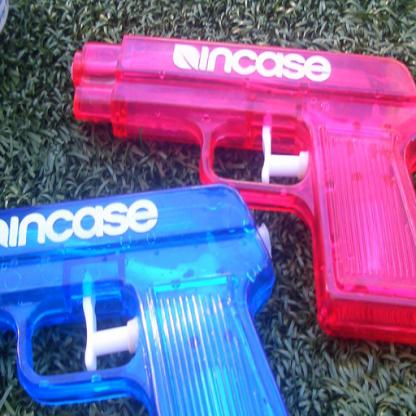gun: (67, 32, 416, 349), (0, 184, 309, 415)
